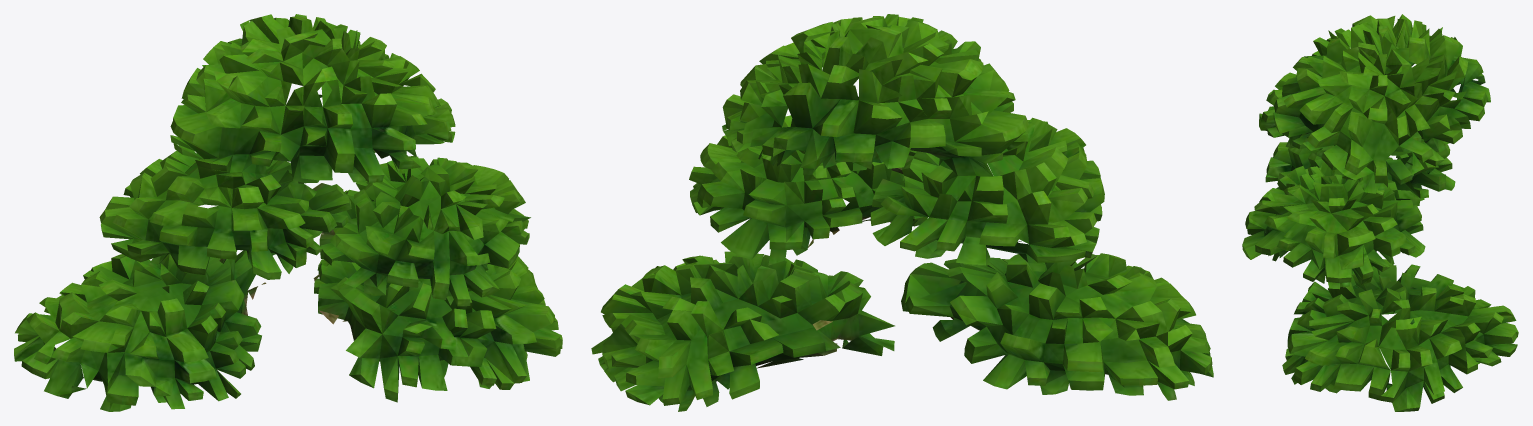
File: leaf_su.glb
3 views of the same model, side by side, from view 1: azimuth 30°, elevation 25°; view 2: azimuth 150°, elevation 25°; view 3: azimuth 270°, elevation 25° (orthographic). The views are drawn at different scales.
Visible parts, largest first — view 1: geometry_0; view 2: geometry_0; view 3: geometry_0.
Boxes of the visible parts, x1,y1,x2,y2 form: geometry_0: [14, 14, 562, 411]; geometry_0: [591, 14, 1213, 411]; geometry_0: [1242, 14, 1518, 411].
Bounding box in the file's own units: 0.3977 × 0.256 × 0.2185.
Materials: 1 (1 with a texture image).
